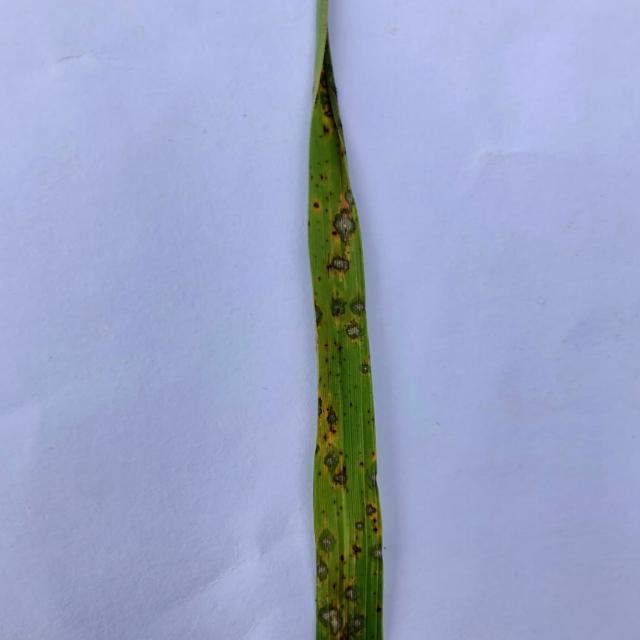leaf blast: (327, 205, 357, 252), (320, 54, 334, 140), (317, 602, 345, 640), (321, 398, 343, 437), (324, 252, 354, 280), (344, 608, 369, 640), (341, 314, 367, 344), (317, 525, 341, 557), (326, 290, 349, 322), (328, 465, 351, 497), (321, 444, 341, 478), (336, 187, 361, 210), (348, 291, 368, 319), (342, 582, 362, 606), (315, 557, 332, 585), (312, 303, 328, 332), (366, 538, 382, 563), (360, 502, 380, 518), (358, 358, 373, 379), (366, 465, 378, 491), (352, 516, 369, 533)
